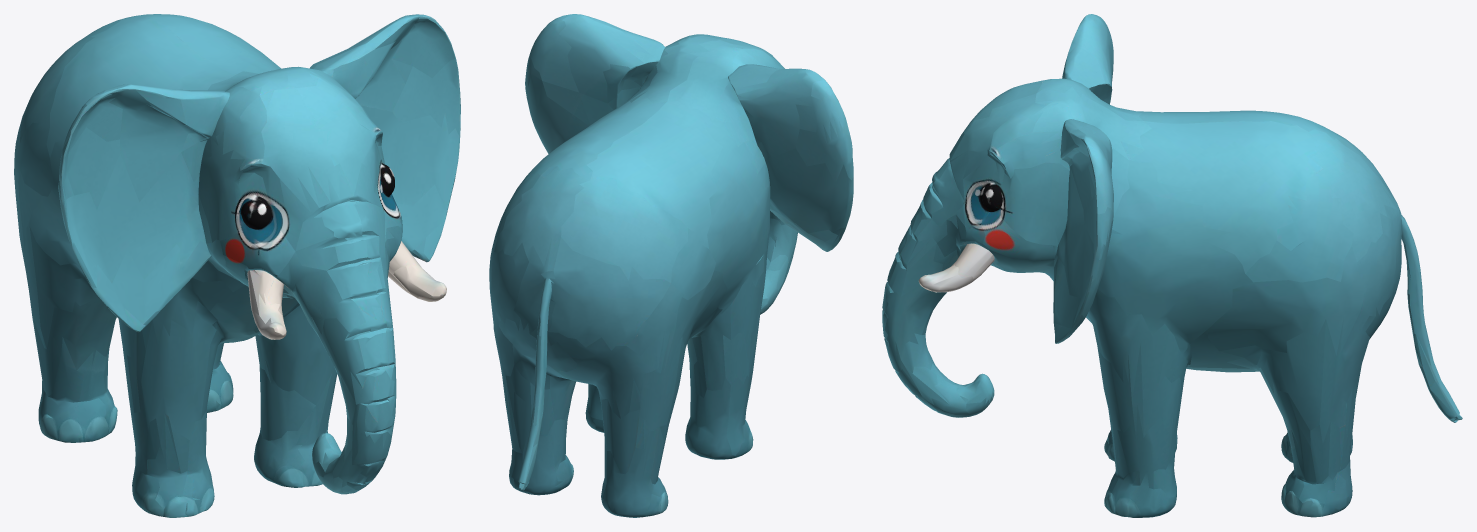
Rendered from skill-postgres.glb.
3 views of the same model, side by side, from view 1: azimuth 30°, elevation 25°; view 2: azimuth 150°, elevation 25°; view 3: azimuth 270°, elevation 25° (orthographic). The views are drawn at different scales.
Size of the model in its own units: 1.32 by 1.45 by 1.9.
Materials: 1 (1 with a texture image).
